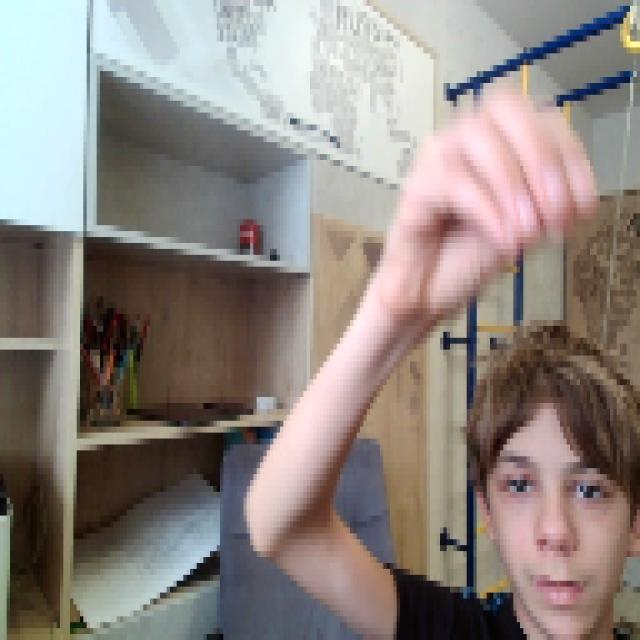left_click: (386, 77, 596, 320)
